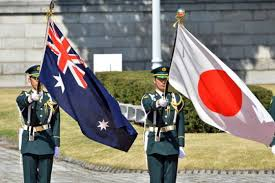Japanese Flag: (165, 21, 275, 149)
